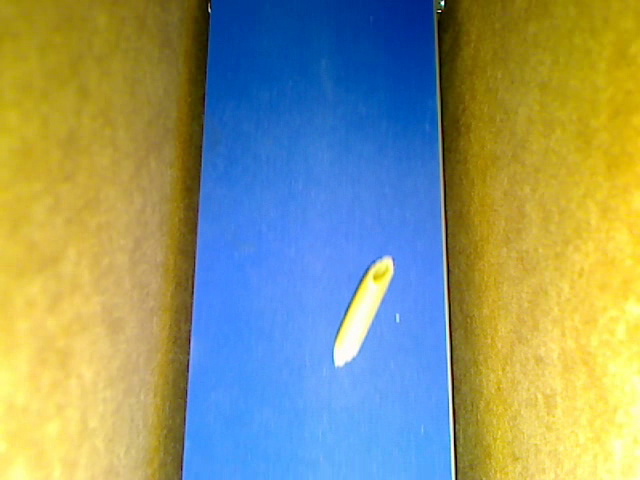penne: (331, 255, 396, 369)
